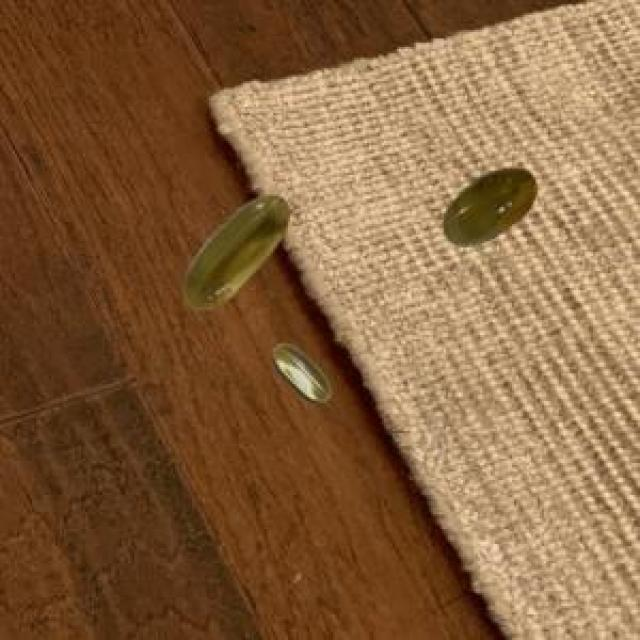Fish_Oil: (172, 188, 302, 321), (435, 151, 547, 263), (265, 334, 341, 414)
